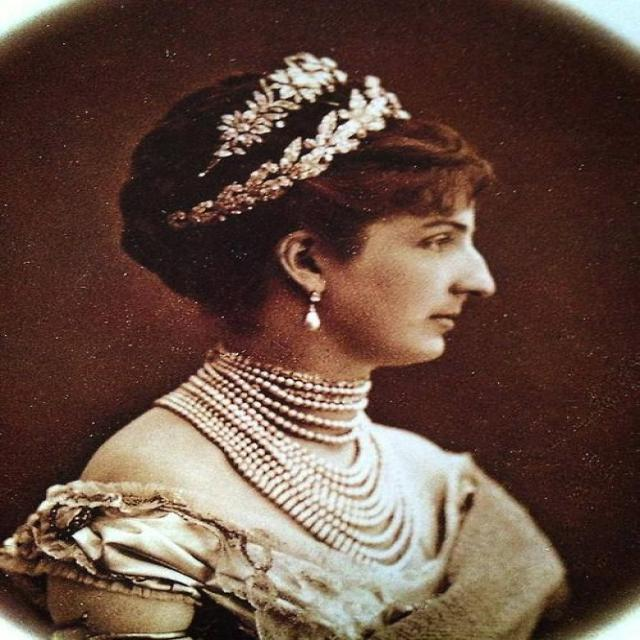Earring: (298, 284, 330, 334)
